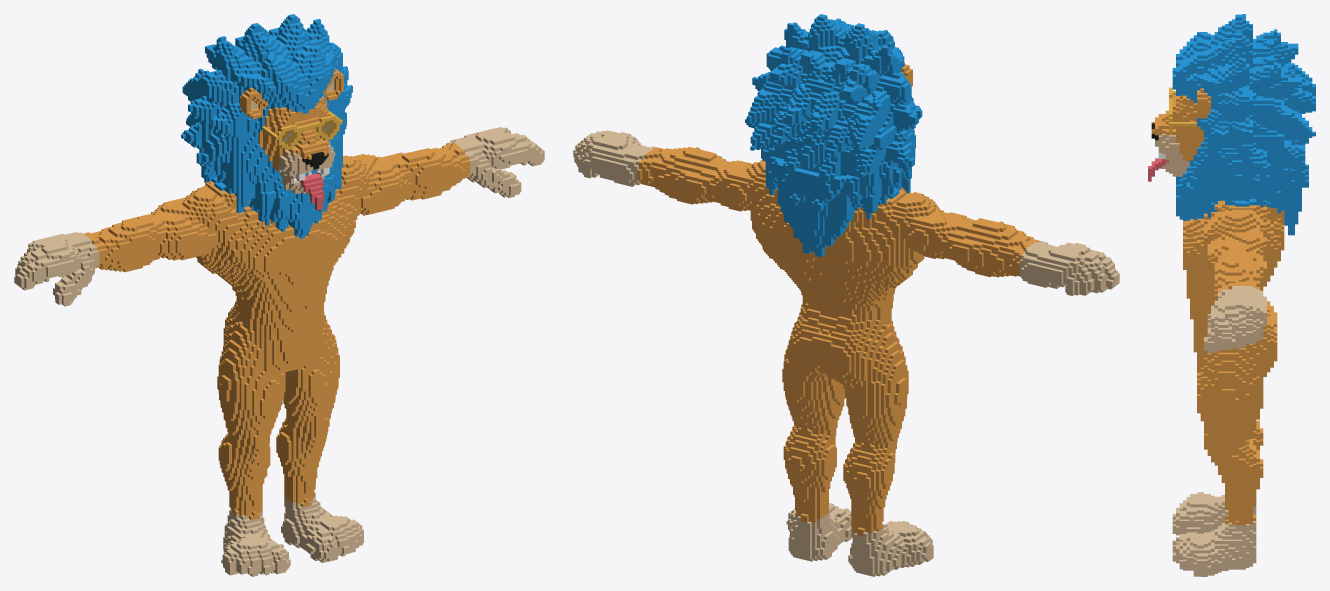
Rendered from 204-jHo2dopt.glb.
3 views of the same model, side by side, from view 1: azimuth 30°, elevation 25°; view 2: azimuth 150°, elevation 25°; view 3: azimuth 270°, elevation 25° (orthographic). The views are drawn at different scales.
Parts seen in each view (by area): view 1: tongue_out; view 2: tongue_out; view 3: tongue_out.
Part boxes in pixels (x1,y1,x2,y2): tongue_out: [14, 14, 544, 576]; tongue_out: [573, 14, 1119, 576]; tongue_out: [1148, 14, 1315, 576].
Size of the model in its own units: 17.2 by 16.5 by 4.8.
Materials: 4 (4 with a texture image).
